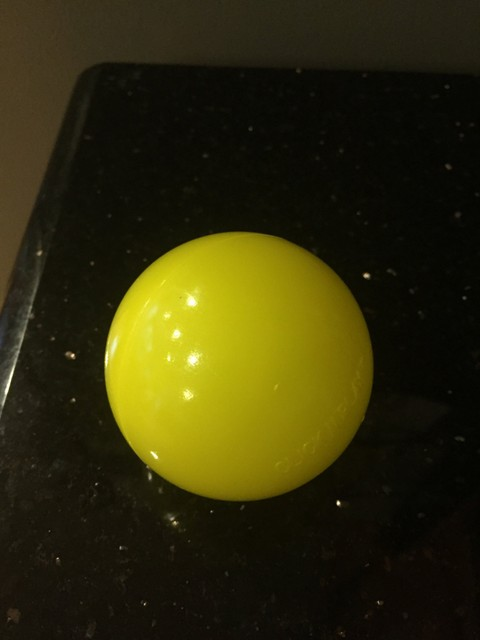ball: (103, 229, 373, 506)
